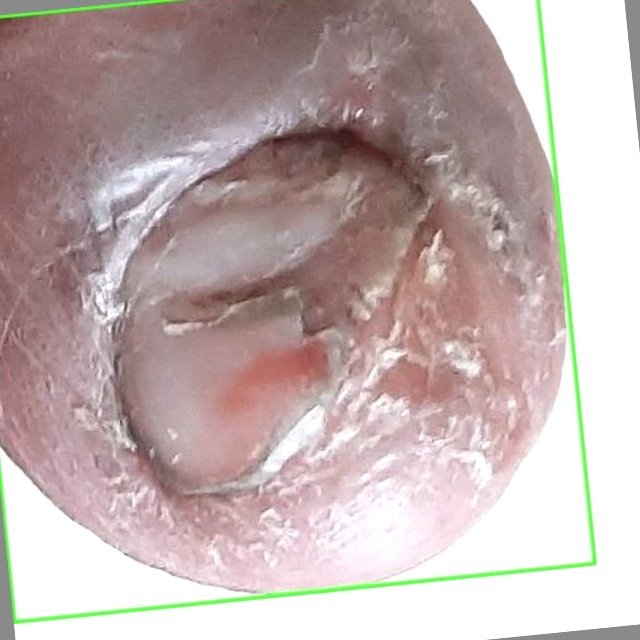Contact Dermatitis: (0, 0, 594, 621)
